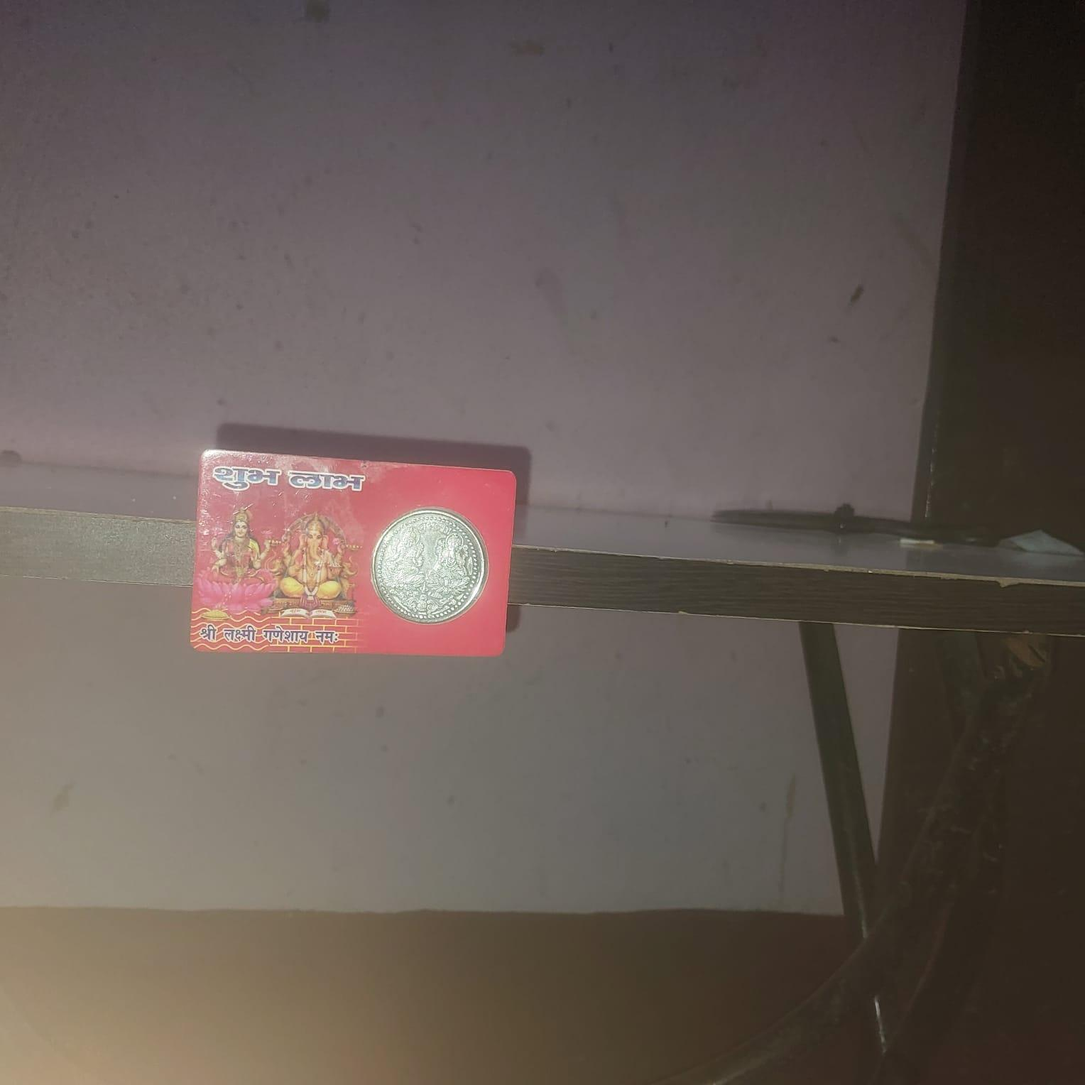blessing_card: (192, 452, 514, 656)
